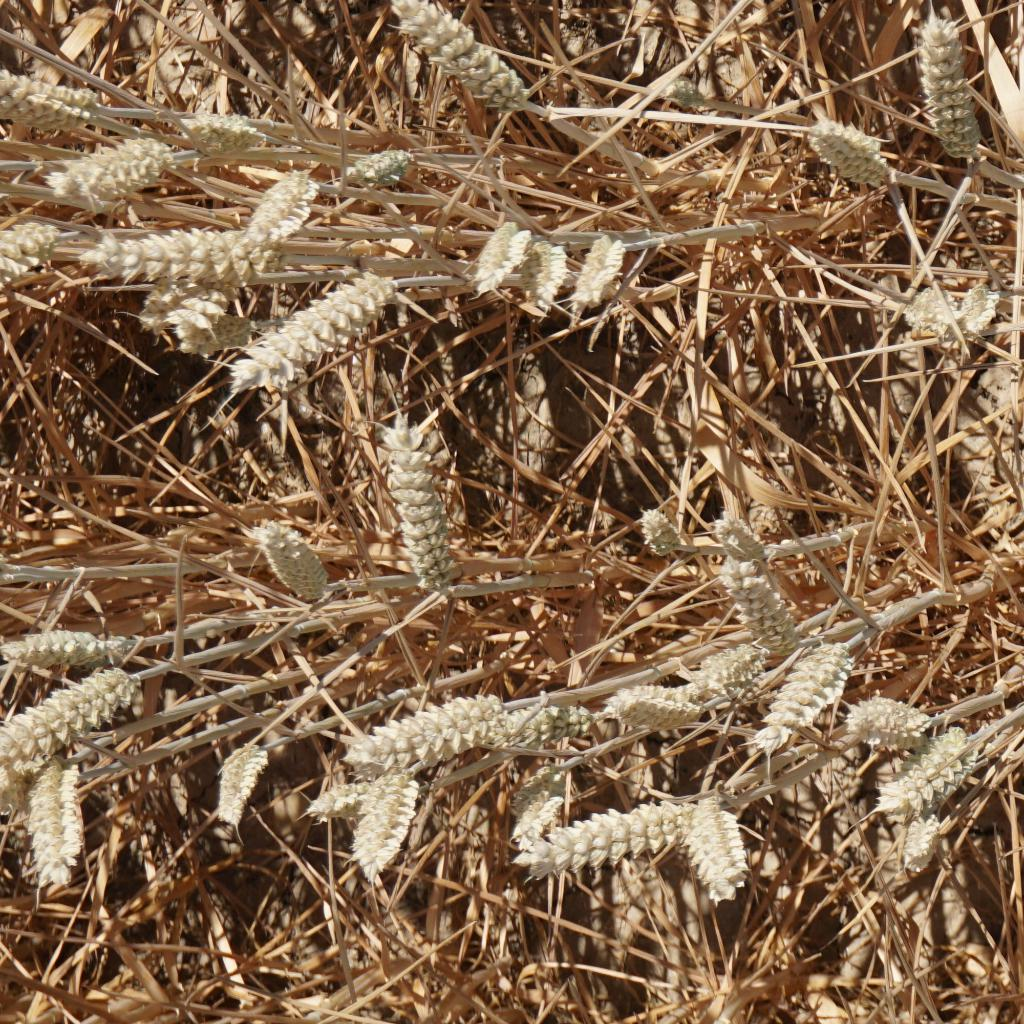0-0: (378, 0, 537, 109), (223, 281, 398, 378), (375, 420, 469, 580), (500, 799, 672, 873), (341, 681, 500, 760), (0, 669, 142, 748), (910, 3, 981, 153), (35, 129, 180, 200), (76, 227, 251, 284), (18, 755, 91, 884), (762, 641, 848, 735), (349, 771, 419, 880), (880, 736, 971, 812), (787, 124, 892, 187), (137, 277, 228, 344), (687, 804, 751, 899), (260, 519, 334, 600), (0, 620, 124, 667), (725, 566, 795, 648), (248, 175, 331, 244), (492, 763, 563, 830), (213, 740, 268, 823), (341, 143, 431, 193), (568, 234, 617, 323), (0, 72, 92, 118), (503, 694, 588, 743), (472, 221, 531, 291), (615, 679, 699, 726), (857, 691, 937, 740), (635, 497, 688, 566), (520, 240, 563, 325), (177, 100, 256, 146), (892, 810, 951, 868), (0, 228, 55, 285), (716, 502, 764, 566), (954, 277, 1001, 342), (900, 281, 948, 341), (704, 647, 758, 688), (301, 775, 344, 817)
